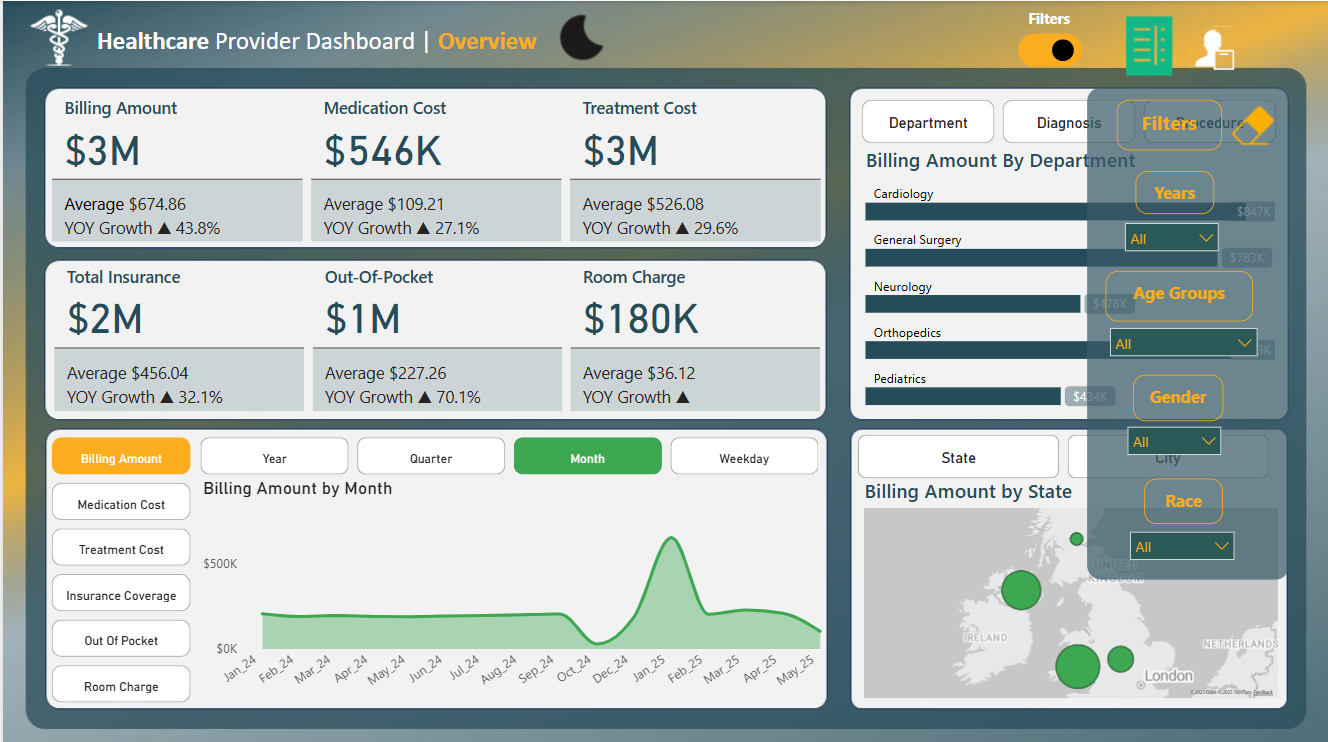

The dashboard page shown, as its layout file describes it:
{"tool":"powerbi","page":{"name":"Overview","canvas":[1280,720],"ordinal":0},"visuals":[{"type":"cardVisual","fields":{"Data":["Measures Table.Total Billing Amount","Measures Table.Total Medication Cost","Measures Table.Total Treatment"]},"box":[42.6,81.6,752.8,155.9],"z":0},{"type":"clusteredBarChart","fields":{"Y":["Measures Table.Blanck measure","Measures Table.Total Billing Amount"],"Category":["departments.Department","diagnoses.Diagnosis","procedures.Procedure"]},"box":[827.1,140,405.1,256.7],"z":0,"group":"g3"},{"type":"advancedSlicerVisual","fields":{"Values":["Parameter for Location.Parameter for Location"]},"box":[820.4,414,406.9,52.4],"z":0,"group":"g1"},{"type":"advancedSlicerVisual","fields":{"Values":["Parameter.Parameter"]},"box":[42.6,416.6,144.7,268],"z":0,"group":"g2"},{"type":"textbox","box":[86.2,17.5,453.8,48.8],"z":1000},{"type":"advancedSlicerVisual","fields":{"Values":["Parameter.Parameter"]},"box":[823.9,90.1,411.1,52.3],"z":1000,"group":"g3"},{"type":"areaChart","fields":{"Category":["Date Table.Month"],"Y":["Measures Table.Total Billing Amount"]},"box":[188,459.7,620,222.9],"z":1000,"group":"g2"},{"type":"azureMap","fields":{"Size":["Measures Table.Total Billing Amount"],"Category":["city.State","city.City"]},"box":[826,460.3,409.3,218],"z":1000,"group":"g1"},{"type":"group","id":"g1","title":"Group 1","box":[820.4,414,414.9,264.4],"z":2000},{"type":"advancedSlicerVisual","fields":{"Values":["Date Parameter.Parameter"]},"box":[186,416.6,609.4,46.3],"z":2000,"group":"g2"},{"type":"group","id":"g2","title":"Group 2","box":[42.6,416.6,765.4,268],"z":3000},{"type":"cardVisual","fields":{"Data":["Measures Table.Total Insurance Coverage","Measures Table.Out Of Pocket","Measures Table.Total Room Charge"]},"box":[45,245,751.2,156.2],"z":4000},{"type":"group","id":"g3","title":"Group 3","box":[823.9,90.1,411.1,306.5],"z":5000},{"type":"actionButton","title":"overview inactive","box":[1142,20,60.9,50],"z":6000},{"type":"actionButton","title":"overview active","box":[1070.7,8.5,70.7,70],"z":7000},{"type":"actionButton","box":[528.8,3.8,60,63.8],"z":8000},{"type":"bookmarkNavigator","box":[980,31.2,62.5,32.5],"z":10000},{"type":"textbox","box":[985,2.5,61.2,45],"z":11000},{"type":"image","box":[21.2,0,65,70],"z":12000}]}

Visuals, with their boxes in screenshot pixels (x1, y1, x2, y2), scaled from the page's 1280x720 canvas onto the 1328x742 screenshot:
cardVisual - Measures Table.Total Billing Amount x Measures Table.Total Medication Cost: crop(44, 84, 825, 245)
clusteredBarChart - Measures Table.Blanck measure x Measures Table.Total Billing Amount: crop(858, 144, 1278, 409)
advancedSlicerVisual - Parameter for Location.Parameter for Location: crop(851, 427, 1273, 481)
advancedSlicerVisual - Parameter.Parameter: crop(44, 429, 194, 706)
textbox: crop(89, 18, 560, 68)
advancedSlicerVisual - Parameter.Parameter: crop(855, 93, 1281, 147)
areaChart - Date Table.Month x Measures Table.Total Billing Amount: crop(195, 474, 838, 703)
azureMap - Measures Table.Total Billing Amount x city.State: crop(857, 474, 1282, 699)
"Group 1" group: crop(851, 427, 1282, 699)
advancedSlicerVisual - Date Parameter.Parameter: crop(193, 429, 825, 477)
"Group 2" group: crop(44, 429, 838, 706)
cardVisual - Measures Table.Total Insurance Coverage x Measures Table.Out Of Pocket: crop(47, 252, 826, 413)
"Group 3" group: crop(855, 93, 1281, 409)
"overview inactive" actionButton: crop(1185, 21, 1248, 72)
"overview active" actionButton: crop(1111, 9, 1184, 81)
actionButton: crop(549, 4, 611, 70)
bookmarkNavigator: crop(1017, 32, 1082, 66)
textbox: crop(1022, 3, 1085, 49)
image: crop(22, 0, 89, 72)
